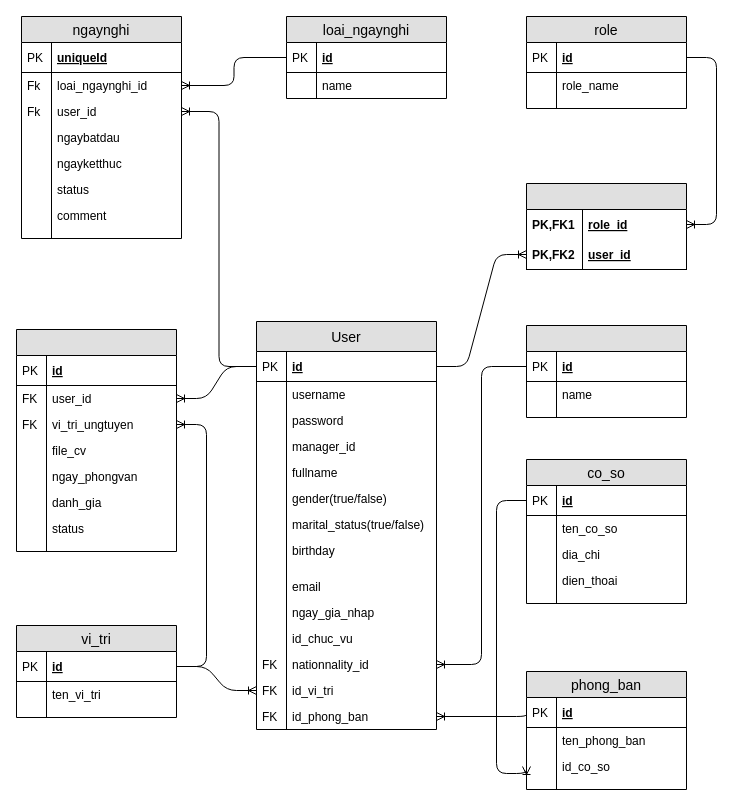
Some shapes in this 733 by 806 pixel diagram are drawn without their labels. Here are the shapes that lost their labels. From the top down, the box of each, then its label:
(526, 182, 686, 270): Table
(526, 324, 686, 418): nationality
(16, 328, 176, 552): ung_vien
